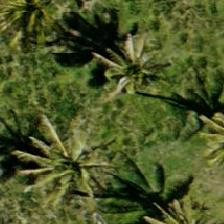Kelapa_Sawit: (17, 114, 107, 204), (88, 20, 178, 110), (0, 0, 64, 59)
